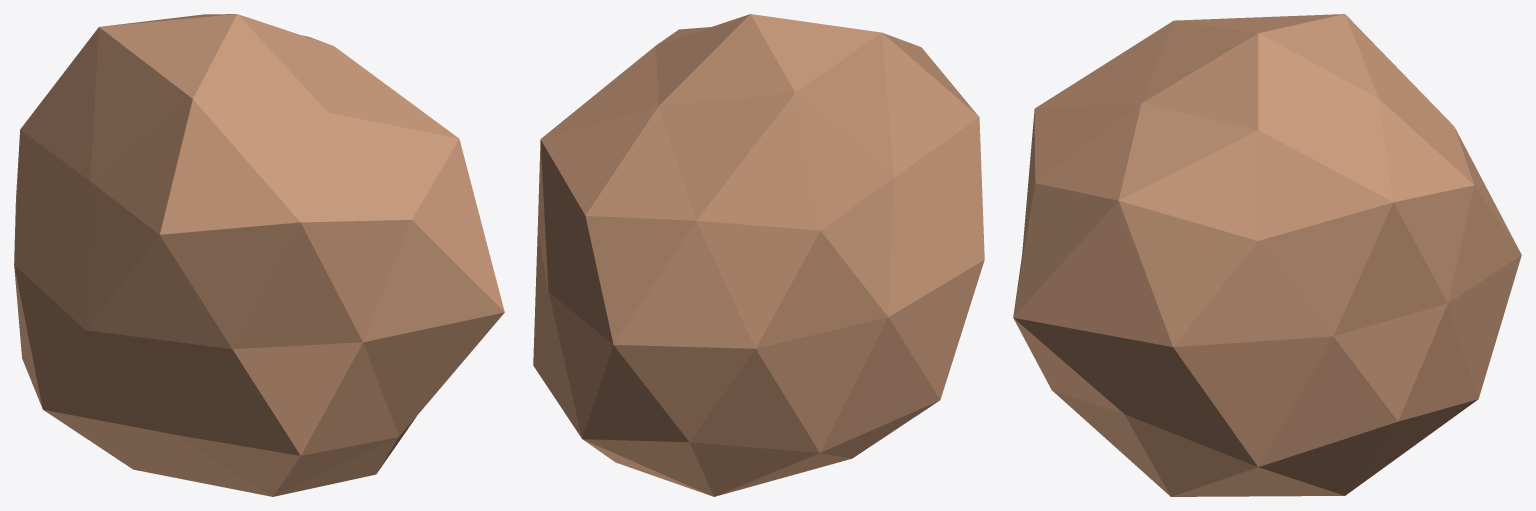
Rendered from rock_red.glb.
The picture shows the model from 3 angles, left to right: view 1: azimuth 30°, elevation 25°; view 2: azimuth 150°, elevation 25°; view 3: azimuth 270°, elevation 25°; orthographic projection. The views are drawn at different scales.
Visible parts, largest first — view 1: rock_red; view 2: rock_red; view 3: rock_red.
Boxes of the visible parts, box(x1,y1,x2,y2) form: rock_red: box(14, 14, 504, 496); rock_red: box(533, 14, 984, 496); rock_red: box(1013, 14, 1521, 496).
Size of the model in its own units: 2.85 by 3.19 by 3.37.
